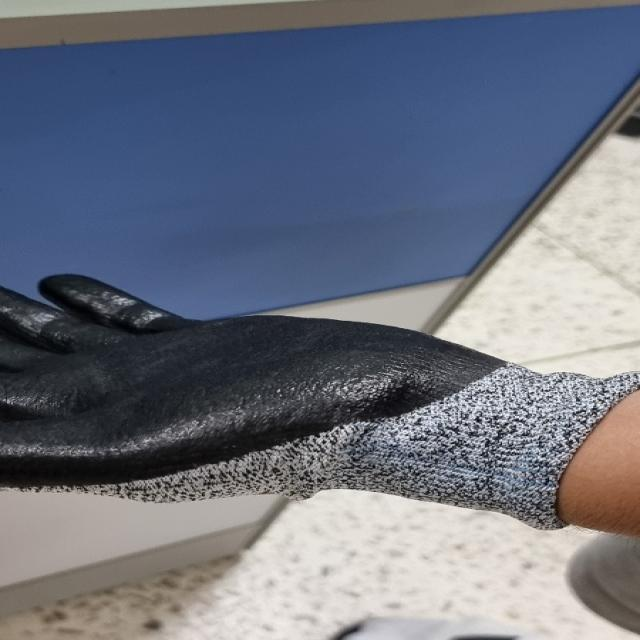Gloves: (0, 266, 640, 547)
